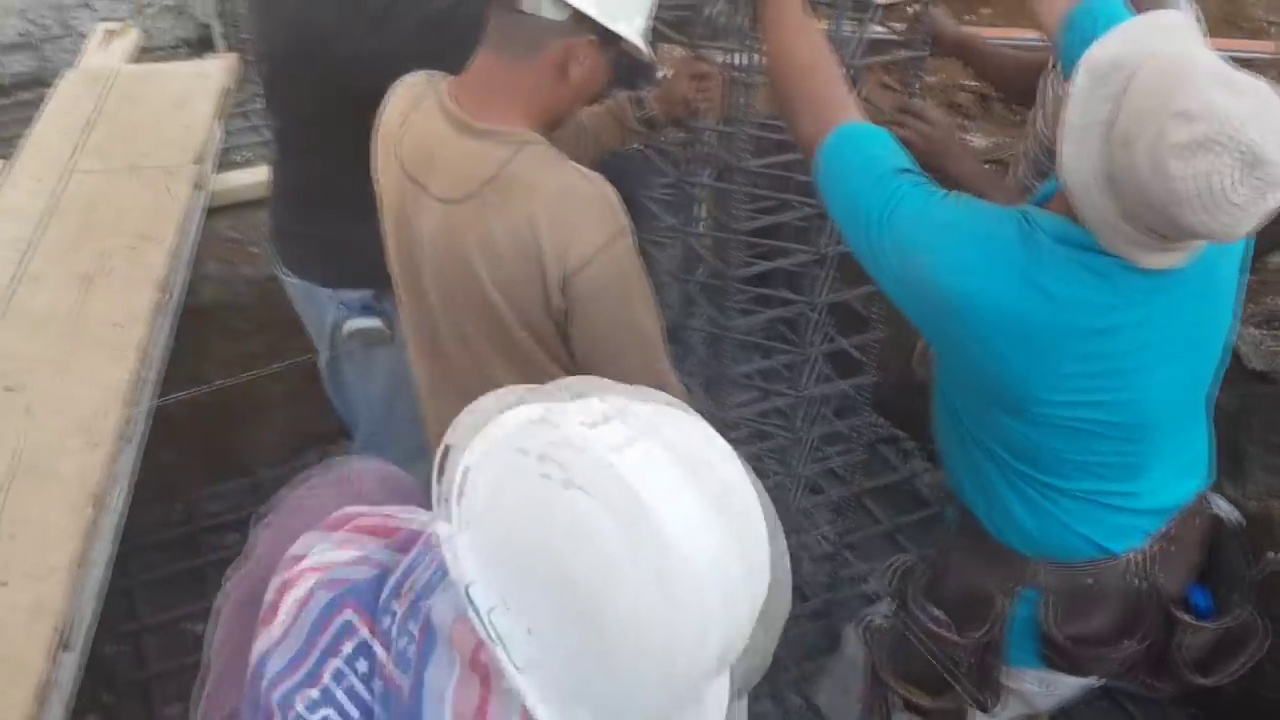helmet: (431, 377, 794, 720), (562, 0, 660, 68)
helmet-off: (1071, 13, 1280, 249)
helmet-on: (311, 376, 786, 720), (449, 0, 652, 159)
person: (792, 0, 1280, 720), (205, 370, 786, 720), (370, 4, 688, 375), (238, 0, 425, 473)
